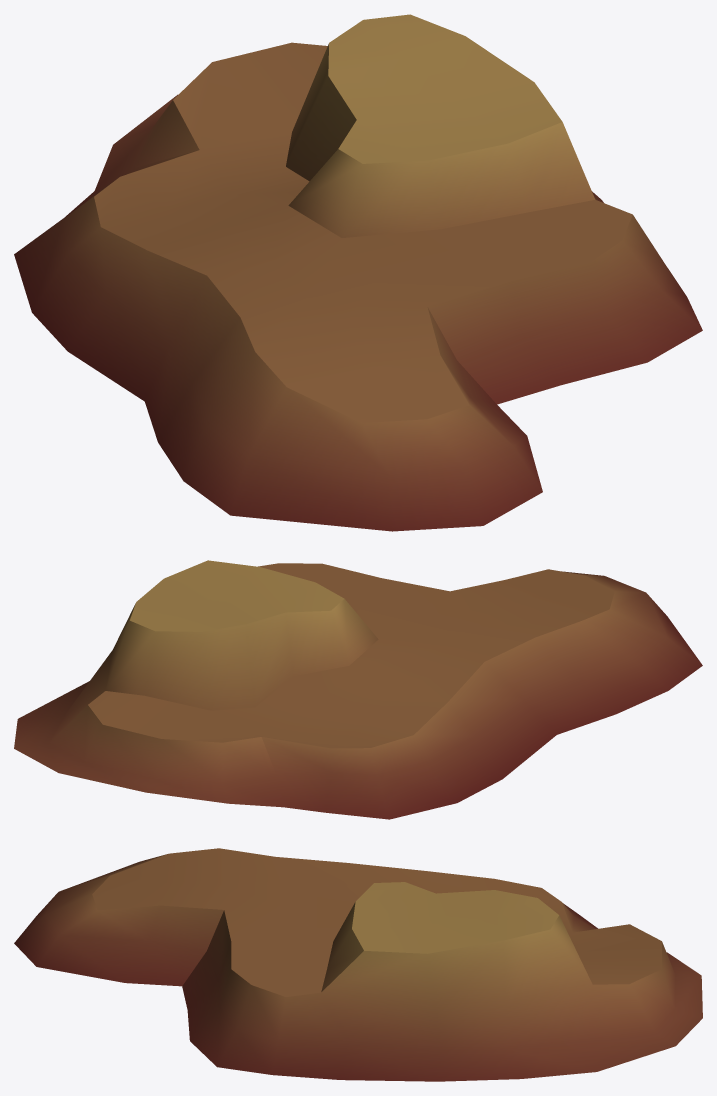
Rendered from Mountain_big.012.fbx.
3 views of the same model, one above another, from view 1: azimuth 30°, elevation 25°; view 2: azimuth 150°, elevation 25°; view 3: azimuth 270°, elevation 25° (orthographic). The views are drawn at different scales.
Visible parts, largest first — view 1: Mountain_big.012; view 2: Mountain_big.012; view 3: Mountain_big.012.
Part boxes in pixels (left/top/right/bottom): Mountain_big.012: left=14, top=14, right=702, bottom=531; Mountain_big.012: left=14, top=560, right=702, bottom=819; Mountain_big.012: left=14, top=848, right=702, bottom=1081.
Bounding box in the file's own units: 204 × 56.27 × 283.
